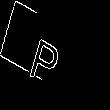P_N: (36, 25, 74, 85)
